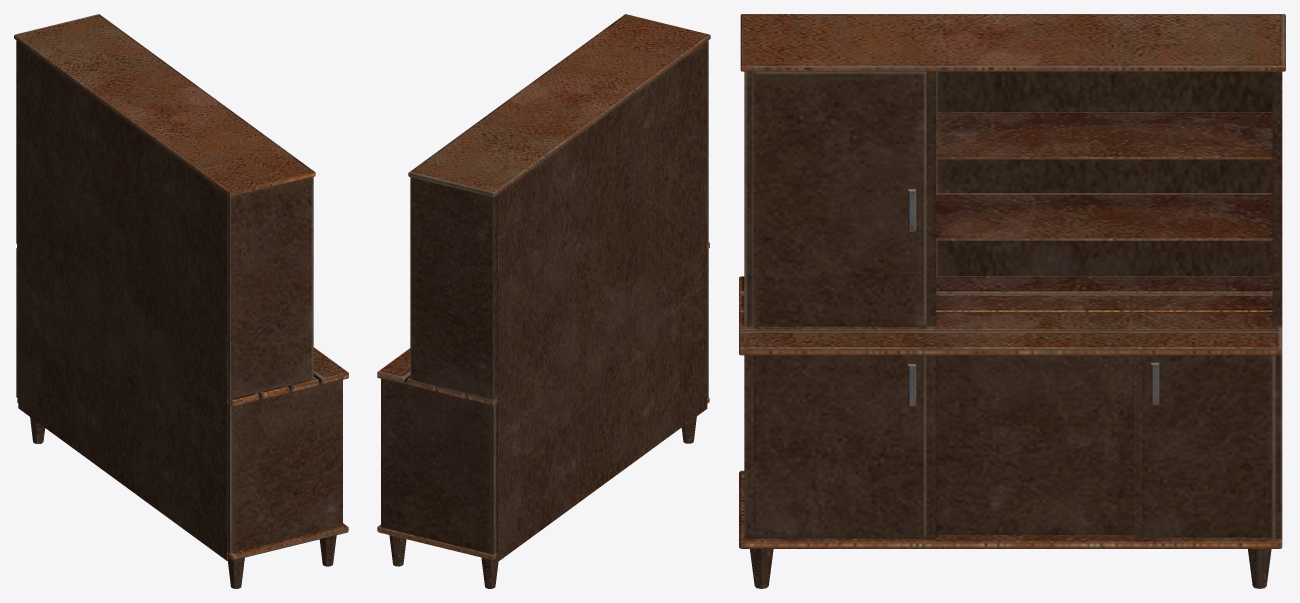
The model's file is servant.fbx.
3 views of the same model, side by side, from view 1: azimuth 30°, elevation 25°; view 2: azimuth 150°, elevation 25°; view 3: azimuth 270°, elevation 25° (orthographic). The views are drawn at different scales.
Visible parts, largest first — view 1: servant; view 2: servant; view 3: servant.
Part boxes in pixels (left/top/right/bottom): servant: left=14, top=14, right=348, bottom=588; servant: left=377, top=14, right=710, bottom=588; servant: left=739, top=14, right=1285, bottom=588.
Size of the model in its own units: 283 by 920 by 898.
